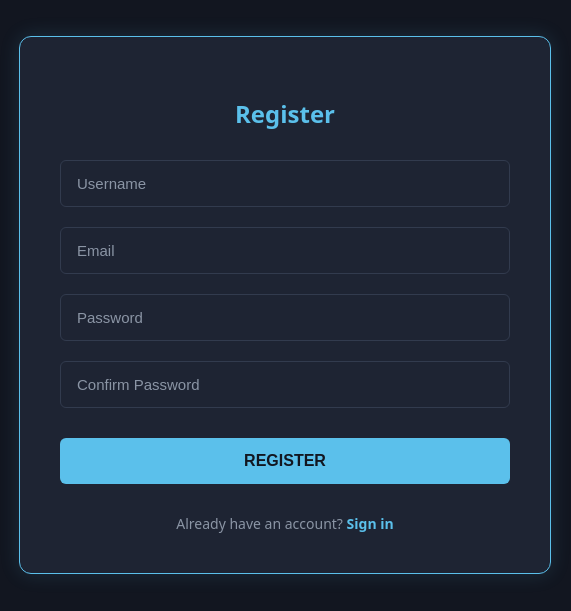
Test: Register Component Validation › shows error for short/invalid username
// Test the 3-character minimum requirement
Type "ab" into the field with placeholder "Username".
click(285, 184); type("ab")  # box top-left (60, 160), bottom-right (510, 207)
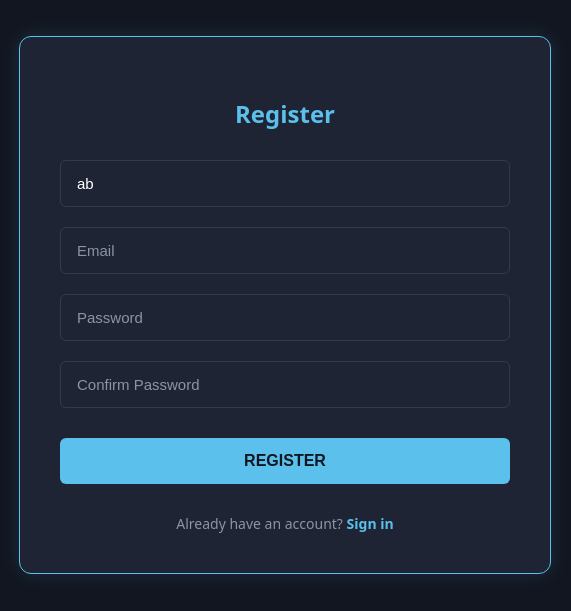
Type "test@wisc.edu" into the field with placeholder "Email".
click(285, 250); type("test@wisc.edu")  # box top-left (60, 227), bottom-right (510, 274)
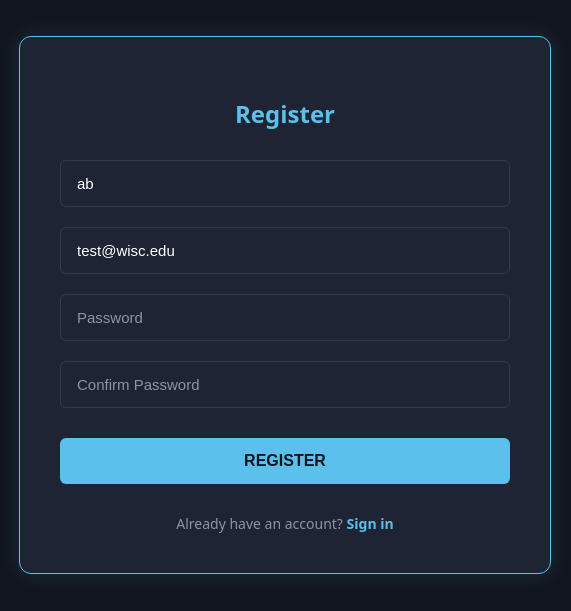
Type "Password123" into the password field with placeholder "Password".
click(285, 318); type("Password123")  # box top-left (60, 294), bottom-right (510, 341)
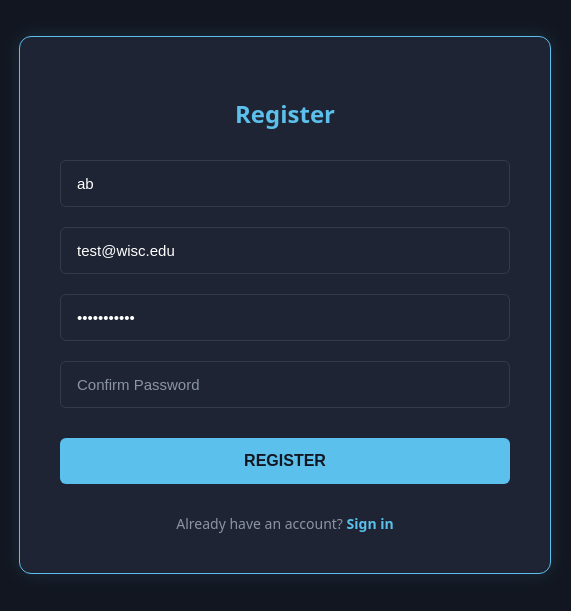
Type "Password123" into the password field with placeholder "Confirm Password".
click(285, 384); type("Password123")  # box top-left (60, 361), bottom-right (510, 408)
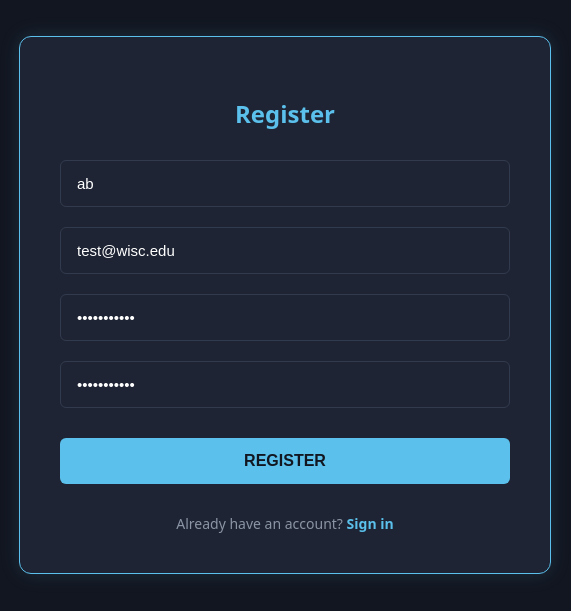
Click the button "REGISTER".
click(285, 461)  # box top-left (60, 438), bottom-right (510, 484)
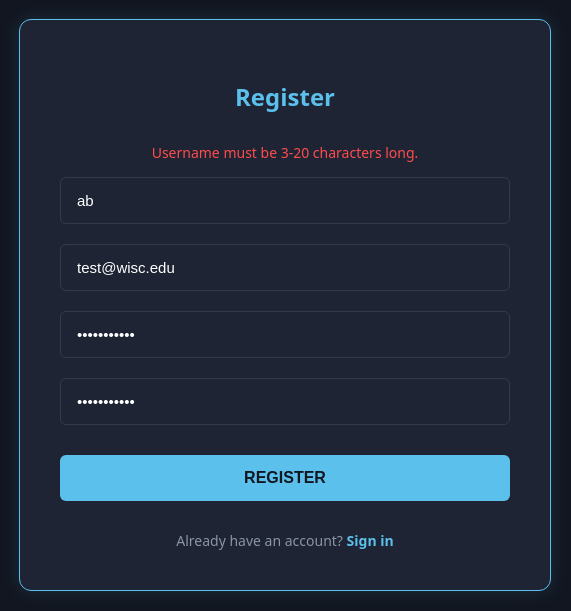
Expected: the text "Username must be 3-20 characters long." is shown, top-left (152, 143), bottom-right (418, 162)
